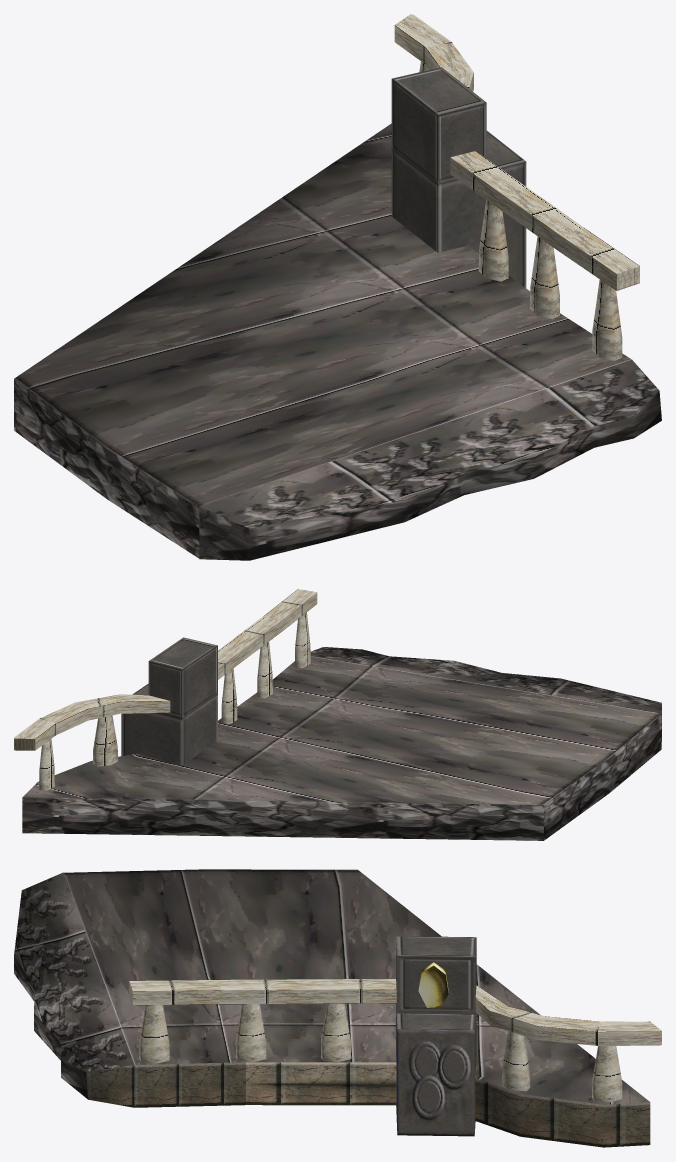
Rendered from INST_SM_WALKWAY_BROKENB_2.fbx.
3 views of the same model, one above another, from view 1: azimuth 30°, elevation 25°; view 2: azimuth 150°, elevation 25°; view 3: azimuth 270°, elevation 25° (orthographic). The views are drawn at different scales.
Visible parts, largest first — view 1: INST_SM_WALKWAY_BROKENB_2; view 2: INST_SM_WALKWAY_BROKENB_2; view 3: INST_SM_WALKWAY_BROKENB_2.
Boxes of the visible parts, x1,y1,x2,y2 form: INST_SM_WALKWAY_BROKENB_2: [14, 14, 661, 560]; INST_SM_WALKWAY_BROKENB_2: [14, 589, 661, 840]; INST_SM_WALKWAY_BROKENB_2: [14, 869, 661, 1147].
Size of the model in its own units: 71955 by 23218 by 83592.
7 materials, 7 textured.
